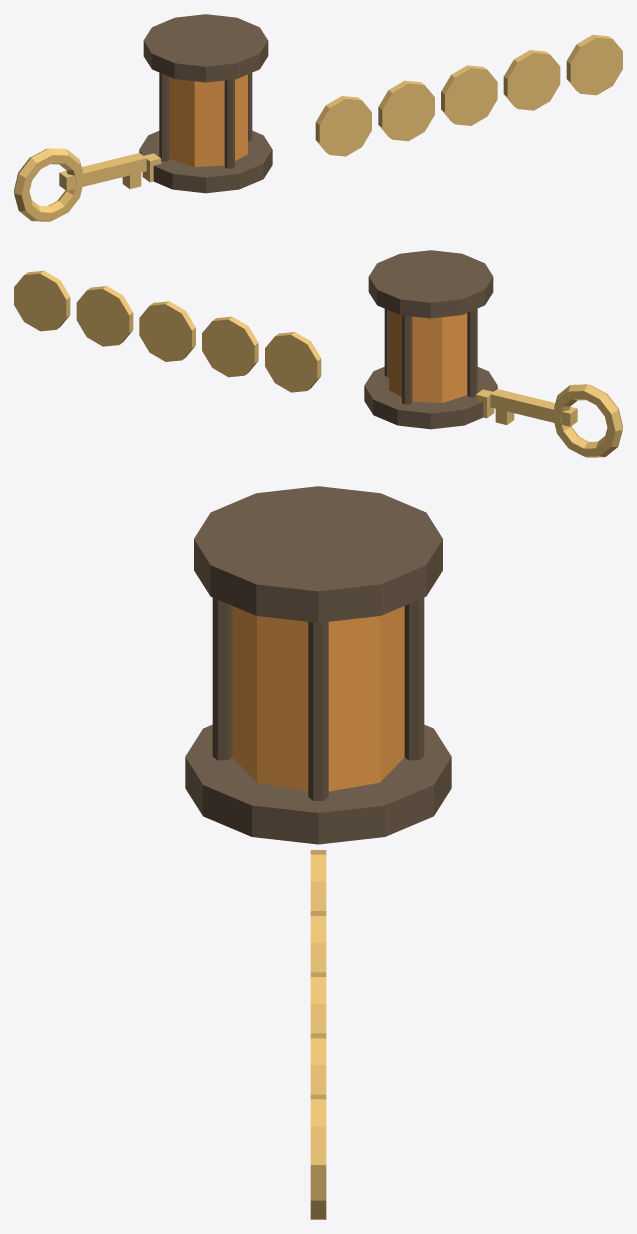
The model's file is little_dream_props.glb.
3 views of the same model, one above another, from view 1: azimuth 30°, elevation 25°; view 2: azimuth 150°, elevation 25°; view 3: azimuth 270°, elevation 25° (orthographic). The views are drawn at different scales.
Visible parts, largest first — view 1: Lantern crown, Glowing amber chamber, Lantern foot, Key ring, Star coin 04, Star coin 01, Star coin 03, Star coin 02, Star coin 05, Key shaft, Lantern cage rib.003, Lantern cage rib.002 (+2 smaller); view 2: Lantern crown, Glowing amber chamber, Lantern foot, Key ring, Star coin 04, Star coin 01, Star coin 03, Star coin 02, Star coin 05, Key shaft, Lantern cage rib.001, Lantern cage rib.002 (+2 smaller); view 3: Lantern crown, Glowing amber chamber, Lantern foot, Lantern cage rib, Lantern cage rib.001, Lantern cage rib.003, Star coin 05, Star coin 04, Star coin 02, Star coin 03, Star coin 01.
Part boxes in pixels (left/top/right/bottom): Lantern crown: left=143, top=14, right=268, bottom=82; Glowing amber chamber: left=169, top=74, right=247, bottom=166; Lantern foot: left=139, top=130, right=272, bottom=193; Key ring: left=14, top=148, right=83, bottom=221; Star coin 04: left=503, top=50, right=560, bottom=110; Star coin 01: left=315, top=96, right=371, bottom=156; Star coin 03: left=441, top=65, right=497, bottom=125; Star coin 02: left=378, top=80, right=434, bottom=141; Star coin 05: left=566, top=34, right=622, bottom=95; Key shaft: left=59, top=153, right=146, bottom=190; Lantern cage rib.003: left=224, top=79, right=234, bottom=168; Lantern cage rib.002: left=159, top=72, right=169, bottom=161; Lantern crown: left=368, top=250, right=493, bottom=318; Glowing amber chamber: left=389, top=310, right=467, bottom=402; Lantern foot: left=364, top=366, right=497, bottom=429; Key ring: left=553, top=384, right=622, bottom=457; Star coin 04: left=76, top=286, right=133, bottom=346; Star coin 01: left=265, top=332, right=321, bottom=392; Star coin 03: left=139, top=301, right=195, bottom=361; Star coin 02: left=202, top=316, right=258, bottom=377; Star coin 05: left=14, top=270, right=70, bottom=331; Key shaft: left=490, top=389, right=577, bottom=426; Lantern cage rib.001: left=402, top=315, right=412, bottom=404; Lantern cage rib.002: left=467, top=308, right=477, bottom=397; Lantern crown: left=194, top=486, right=442, bottom=622; Glowing amber chamber: left=232, top=606, right=404, bottom=791; Lantern foot: left=185, top=724, right=451, bottom=844; Lantern cage rib: left=308, top=622, right=328, bottom=800; Lantern cage rib.001: left=404, top=598, right=424, bottom=760; Lantern cage rib.003: left=212, top=598, right=232, bottom=760; Star coin 05: left=310, top=1094, right=326, bottom=1219; Star coin 04: left=310, top=1033, right=326, bottom=1094; Star coin 02: left=310, top=911, right=326, bottom=972; Star coin 03: left=310, top=972, right=326, bottom=1033; Star coin 01: left=310, top=850, right=326, bottom=910.
Bounding box in the file's own units: 4.84 × 1.13 × 0.92.
